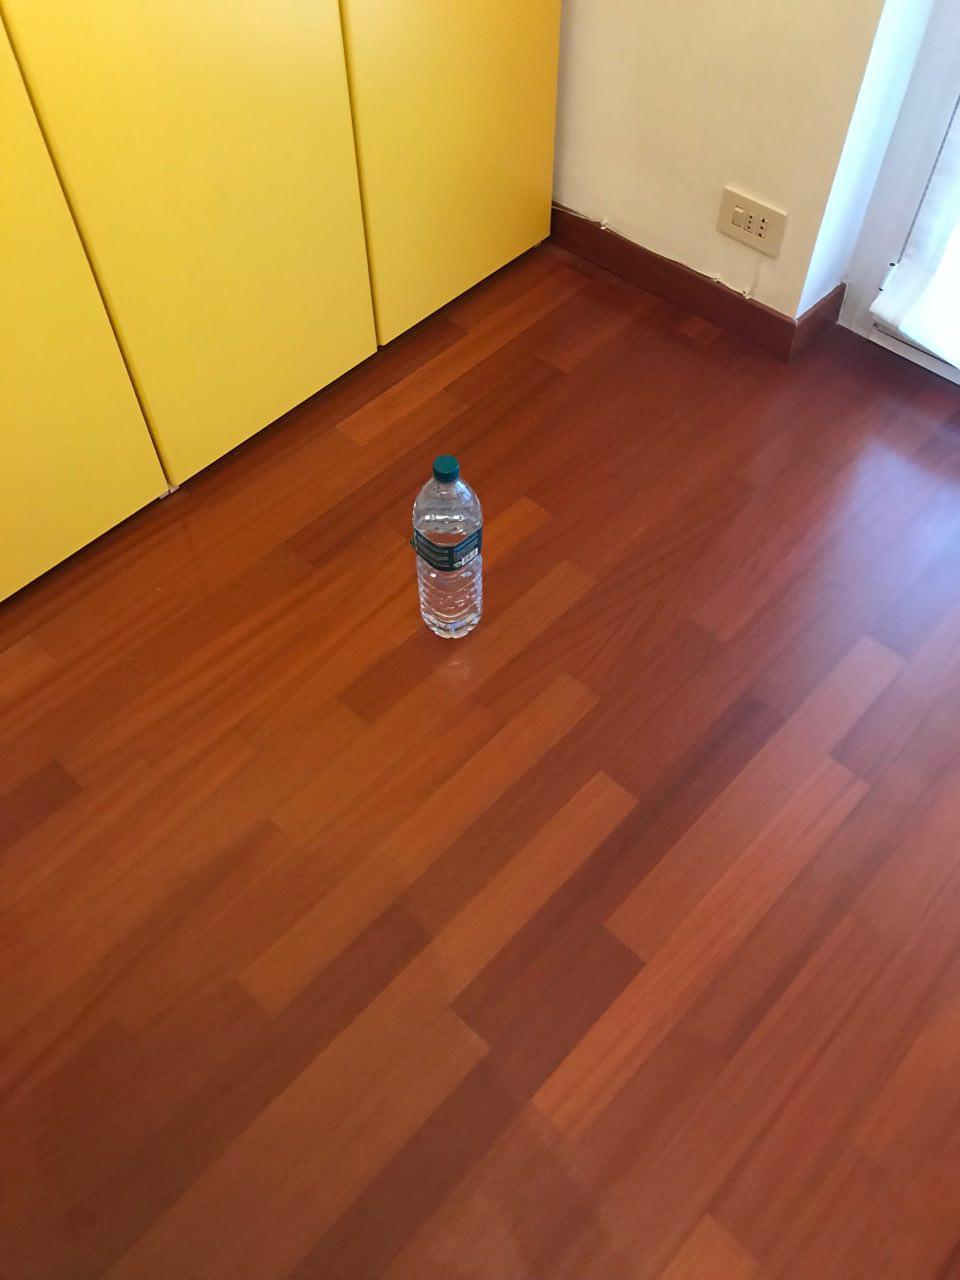san_bernardo: (411, 453, 484, 639)
